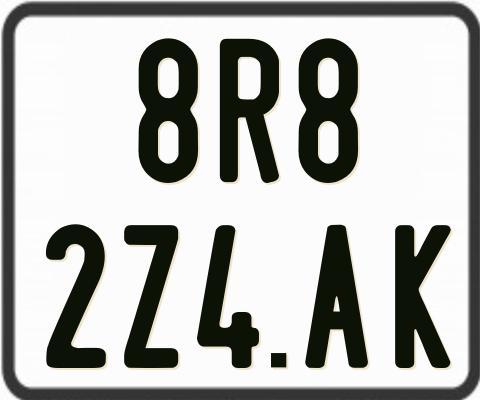2: (45, 224, 108, 368)
4: (195, 224, 257, 372)
8: (297, 38, 357, 188), (137, 38, 197, 184)
A: (305, 225, 370, 373)
K: (395, 224, 452, 367)
R: (219, 39, 279, 183)
Z: (123, 222, 179, 368)
